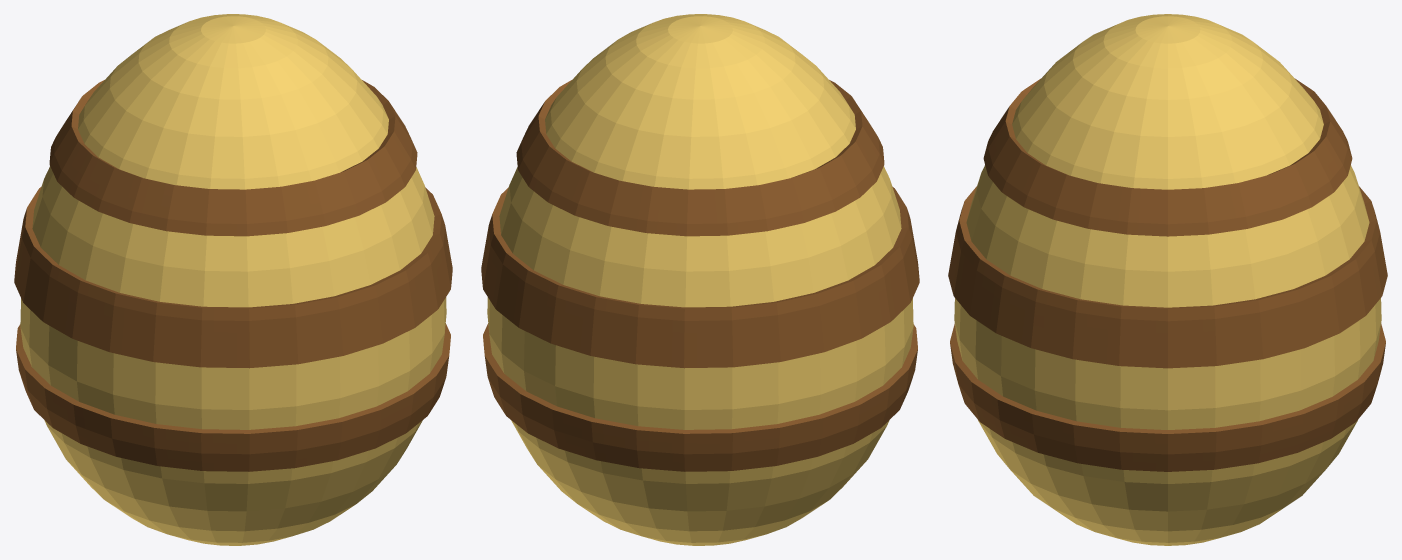
File: FarmEgg.fbx
3 renders of one model, left to right at view 1: azimuth 30°, elevation 25°; view 2: azimuth 150°, elevation 25°; view 3: azimuth 270°, elevation 25°, orthographic.
Visible parts, largest first — view 1: Egg_F2CF6B, Egg_8A5A2B; view 2: Egg_F2CF6B, Egg_8A5A2B; view 3: Egg_F2CF6B, Egg_8A5A2B.
Part boxes in pixels (bbox=[...]): Egg_F2CF6B: bbox=[20, 14, 446, 545]; Egg_8A5A2B: bbox=[14, 80, 452, 471]; Egg_F2CF6B: bbox=[487, 14, 913, 545]; Egg_8A5A2B: bbox=[481, 80, 919, 471]; Egg_F2CF6B: bbox=[954, 14, 1381, 545]; Egg_8A5A2B: bbox=[948, 78, 1387, 471].
Size of the model in its own units: 2.07 by 2.6 by 2.07.
